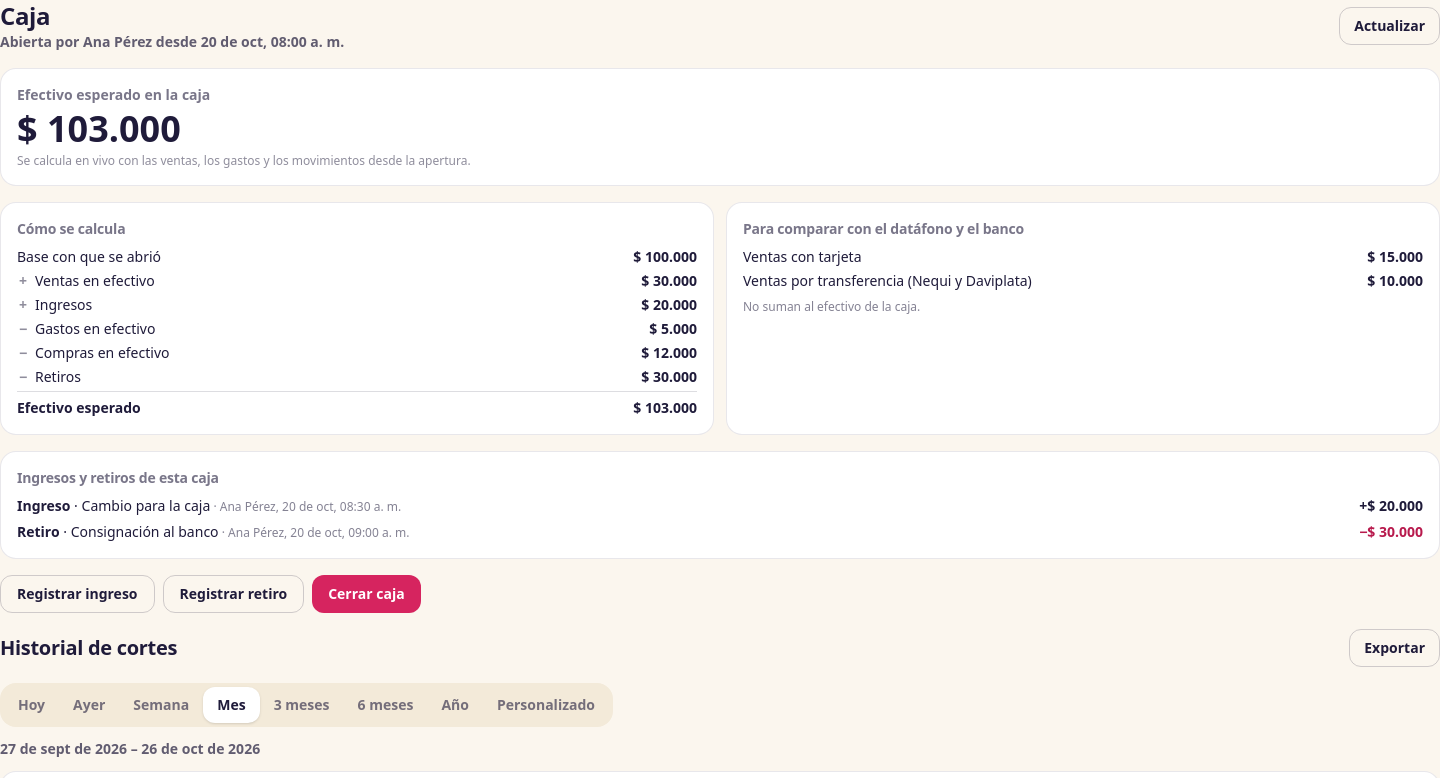
Test: Caja — abierta › el movimiento exige múltiplo de $50 y un motivo
The image size is (1440, 778).
Check: the text "Abierta por Ana Pérez desde 20 de oct, 08:00 a. m." is shown, box [0,32,344,52]
Click the button "Registrar ingreso" at (77, 594), box [0,575,154,613]
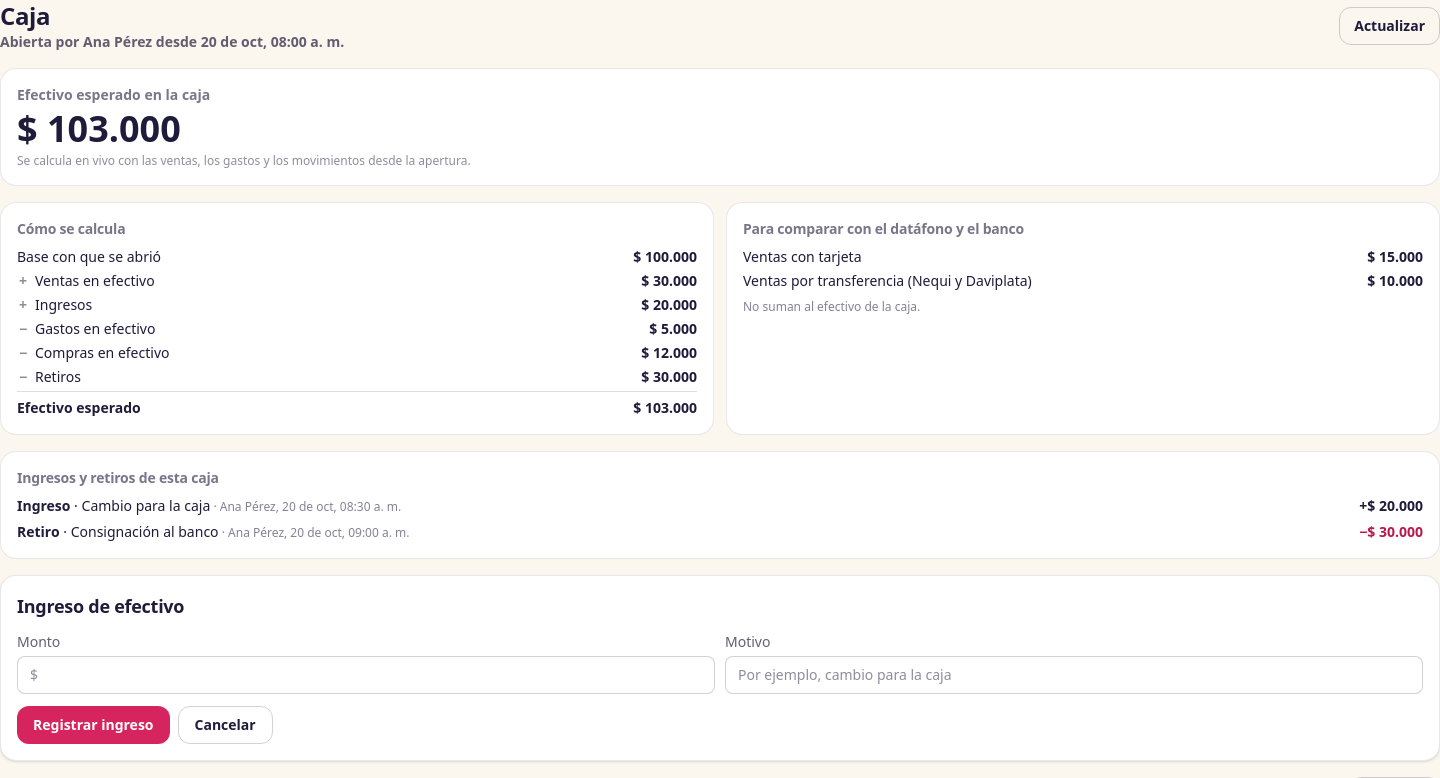
Type "20025" into the number field labelled "Monto" at (366, 675), box [17,656,715,694]
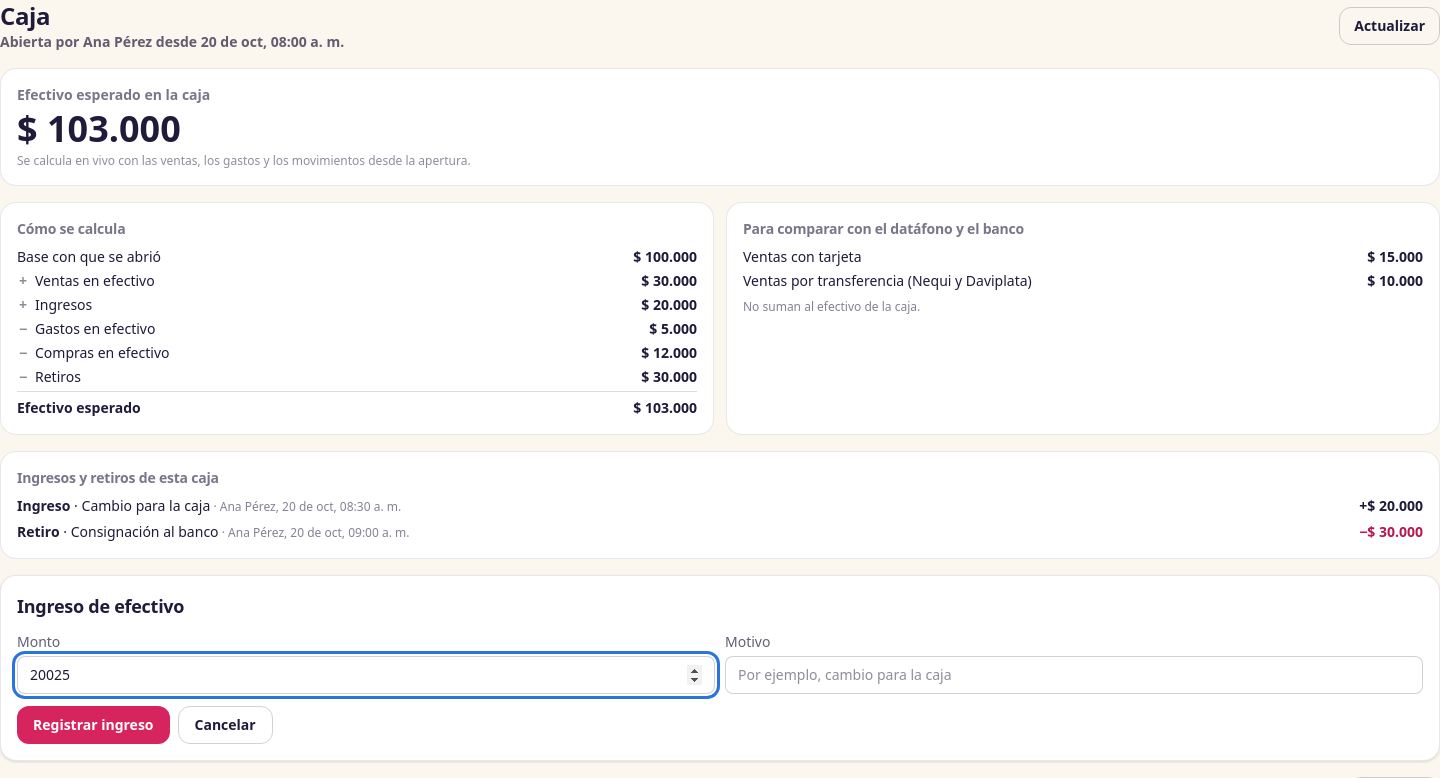
Type "Cambio" into the field labelled "Motivo" at (1074, 675), box [725,656,1423,694]
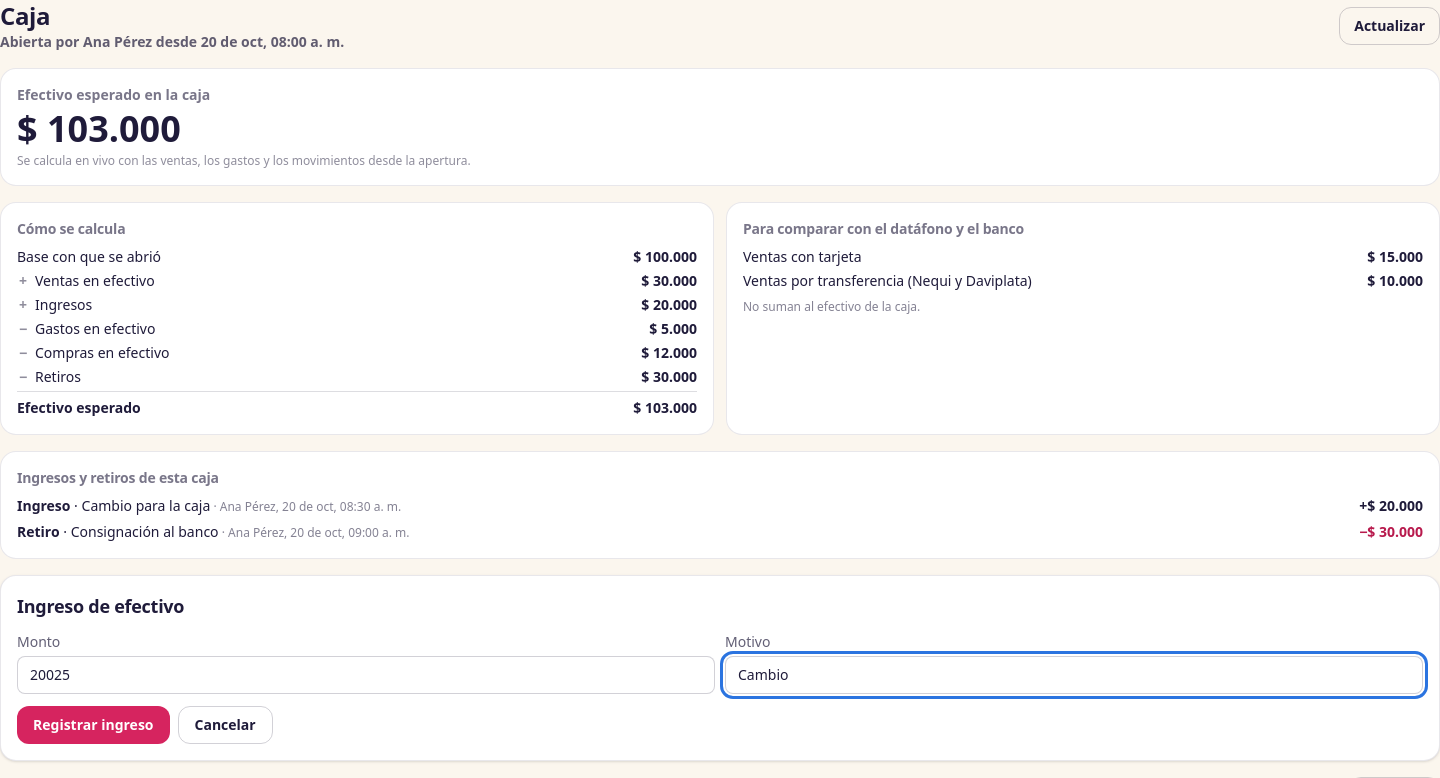
Click the button "Registrar ingreso" at (93, 725), box [17,706,170,744]
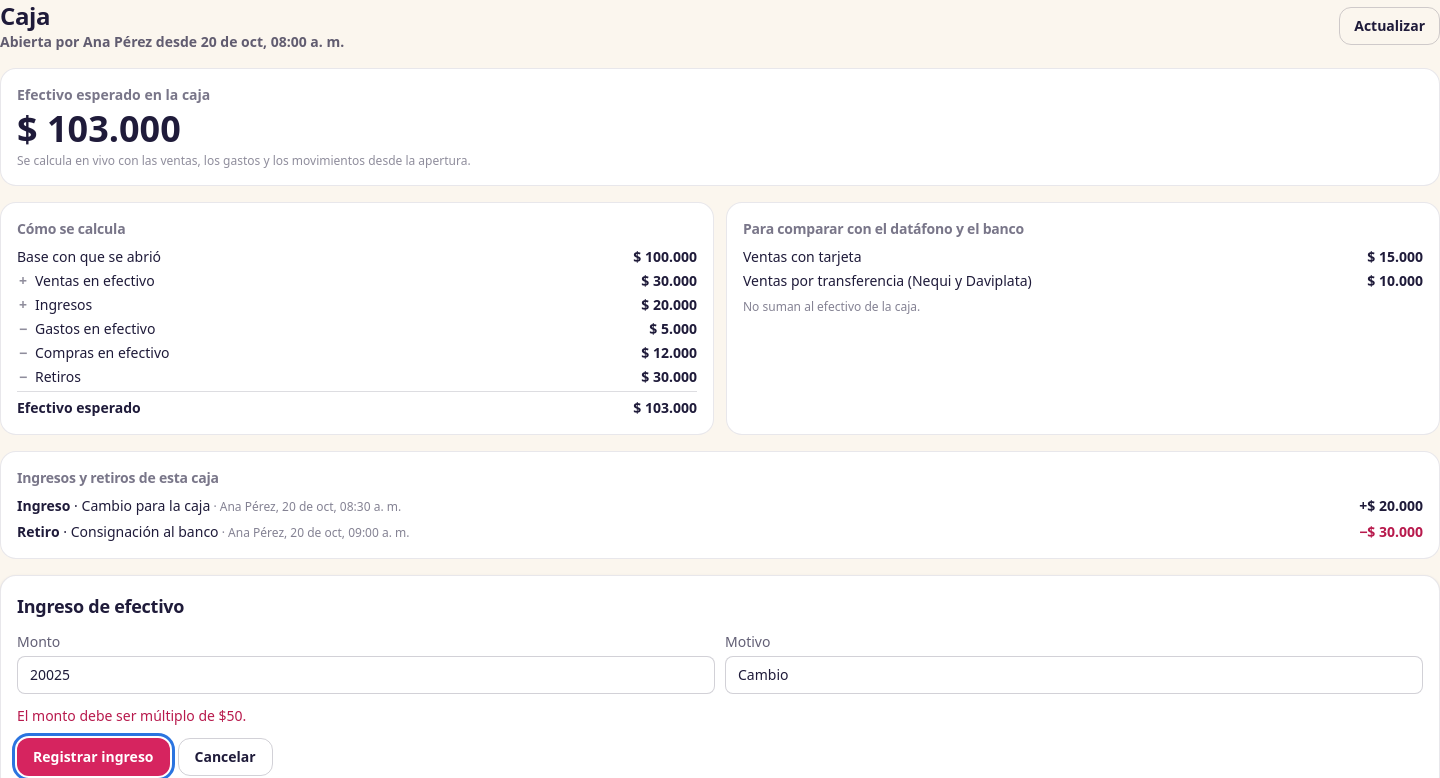
Check: the message shows "múltiplo de $50", box [17,706,246,725]
